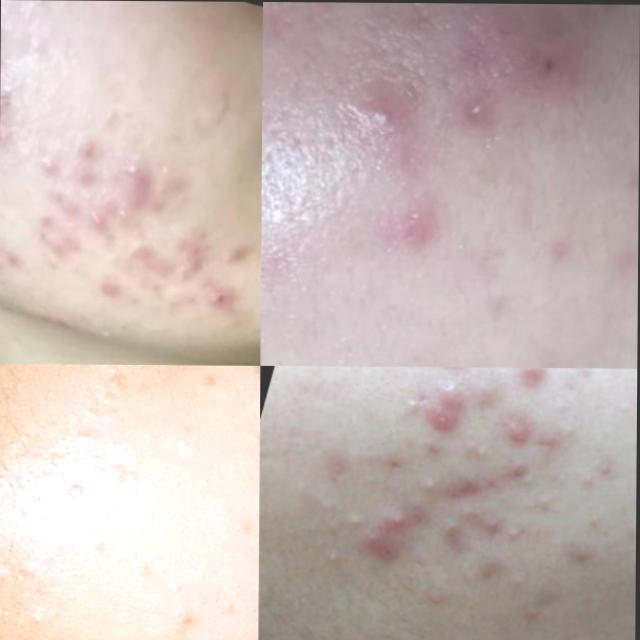8: (416, 366, 483, 447), (366, 494, 428, 550), (487, 402, 539, 461), (555, 525, 605, 579), (64, 125, 115, 176), (343, 520, 401, 564), (110, 144, 156, 195), (497, 366, 559, 398), (499, 449, 542, 495), (196, 281, 242, 321), (523, 421, 565, 463), (215, 234, 257, 274), (431, 516, 469, 554), (476, 505, 514, 543), (31, 155, 71, 185), (81, 202, 111, 241), (0, 116, 16, 147), (628, 380, 638, 424)
blackheads: (103, 218, 185, 304), (18, 181, 93, 275), (161, 222, 216, 294)
pustules: (289, 42, 429, 207), (445, 3, 616, 103)
